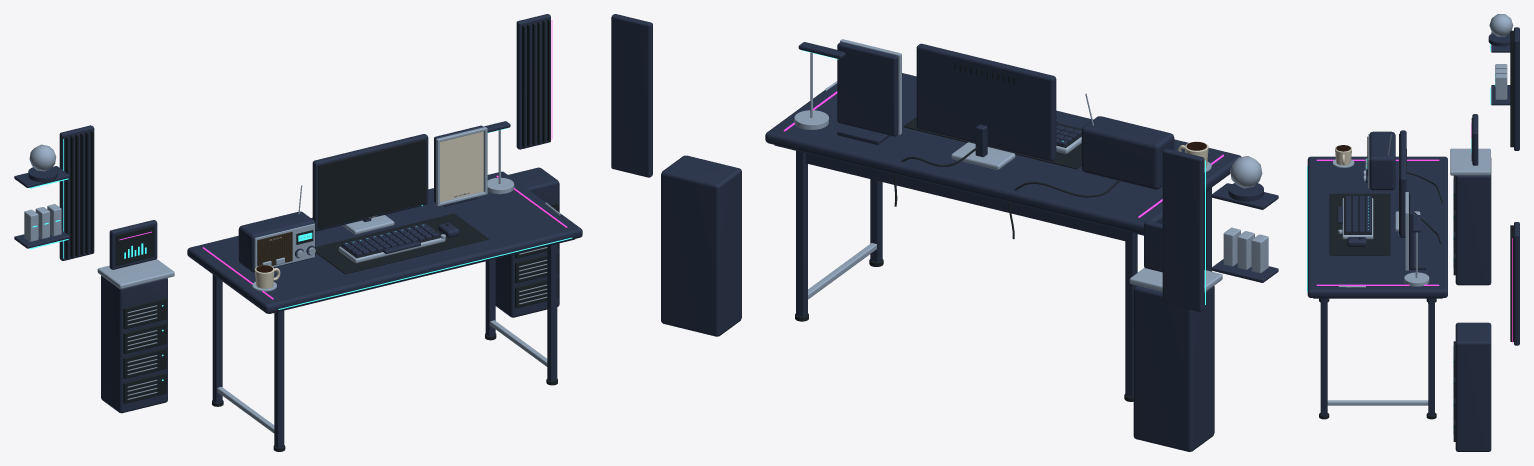
Rendered from desk-neon.glb.
The picture shows the model from 3 angles, left to right: view 1: azimuth 30°, elevation 25°; view 2: azimuth 150°, elevation 25°; view 3: azimuth 270°, elevation 25°; orthographic projection. The views are drawn at different scales.
Visible parts, largest first — view 1: Scenery__finish, Desk__finish, Computer__finish, PhotoDisplay__finish, Radio__finish, NeonKey__finish, Lamp__finish, Accessories__finish; view 2: Scenery__finish, Desk__finish, Computer__finish, PhotoDisplay__finish, Radio__finish, Lamp__finish, Accessories__finish; view 3: Desk__finish, Scenery__finish, Radio__finish, NeonKey__finish, PhotoDisplay__finish, Computer__finish, Accessories__finish, Lamp__finish.
Boxes of the visible parts, x1,y1,x2,y2 form: Scenery__finish: (14, 14, 559, 413); Desk__finish: (187, 171, 582, 451); Computer__finish: (312, 134, 428, 234); PhotoDisplay__finish: (434, 125, 487, 206); Radio__finish: (238, 185, 315, 272); NeonKey__finish: (338, 222, 459, 263); Lamp__finish: (483, 121, 514, 194); Accessories__finish: (252, 202, 562, 291); Scenery__finish: (611, 14, 1278, 451); Desk__finish: (765, 73, 1241, 401); Computer__finish: (916, 43, 1056, 169); PhotoDisplay__finish: (837, 39, 901, 144); Radio__finish: (1081, 93, 1174, 189); Lamp__finish: (794, 42, 845, 129); Accessories__finish: (825, 81, 1211, 239); Desk__finish: (1307, 156, 1447, 419); Scenery__finish: (1450, 14, 1519, 451); Radio__finish: (1363, 131, 1395, 190); NeonKey__finish: (1337, 196, 1373, 246); PhotoDisplay__finish: (1405, 192, 1426, 270); Computer__finish: (1395, 130, 1420, 237); Accessories__finish: (1332, 145, 1443, 287); Lamp__finish: (1404, 215, 1429, 286).
Size of the model in its own units: 18.12 by 8.46 by 7.12.
8 materials, 1 textured.
